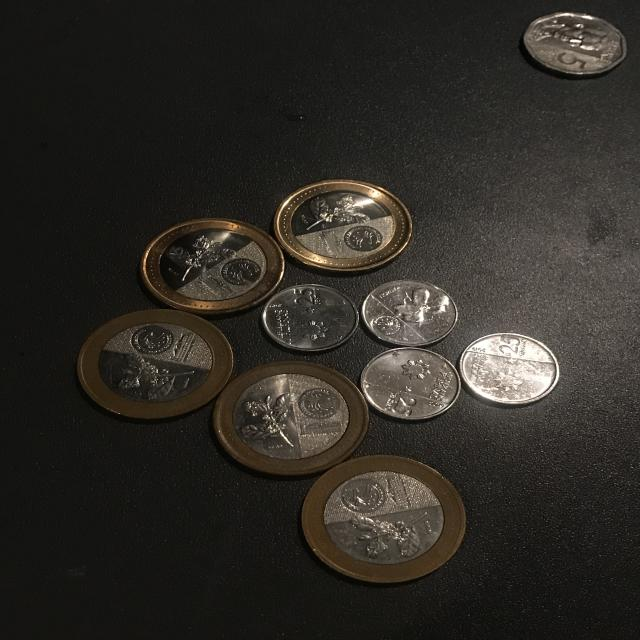20_New_Back: (338, 510, 443, 566), (234, 374, 300, 457), (102, 346, 196, 402), (159, 230, 231, 282), (295, 194, 378, 231)
25Cent_New_Back: (391, 286, 452, 328)
25Cent_New_Front: (376, 387, 426, 421), (492, 332, 542, 361), (291, 288, 332, 314)
5_New_Front: (551, 47, 593, 78)
